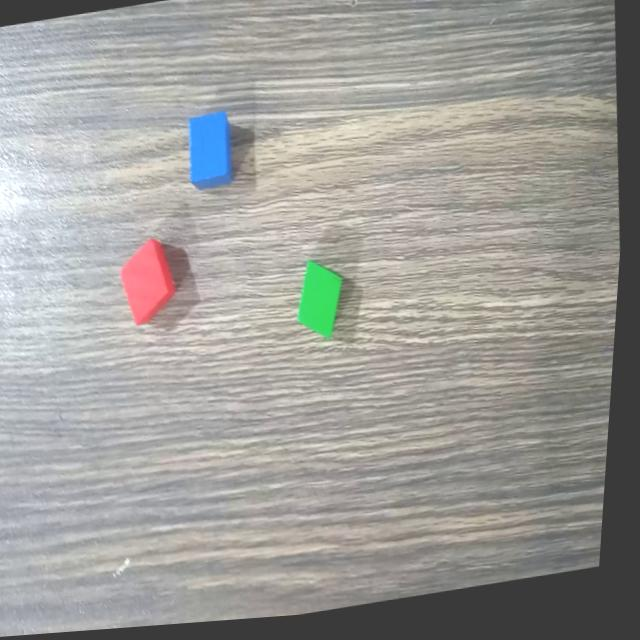cube: (116, 234, 187, 338), (291, 255, 356, 352), (182, 107, 242, 194)
